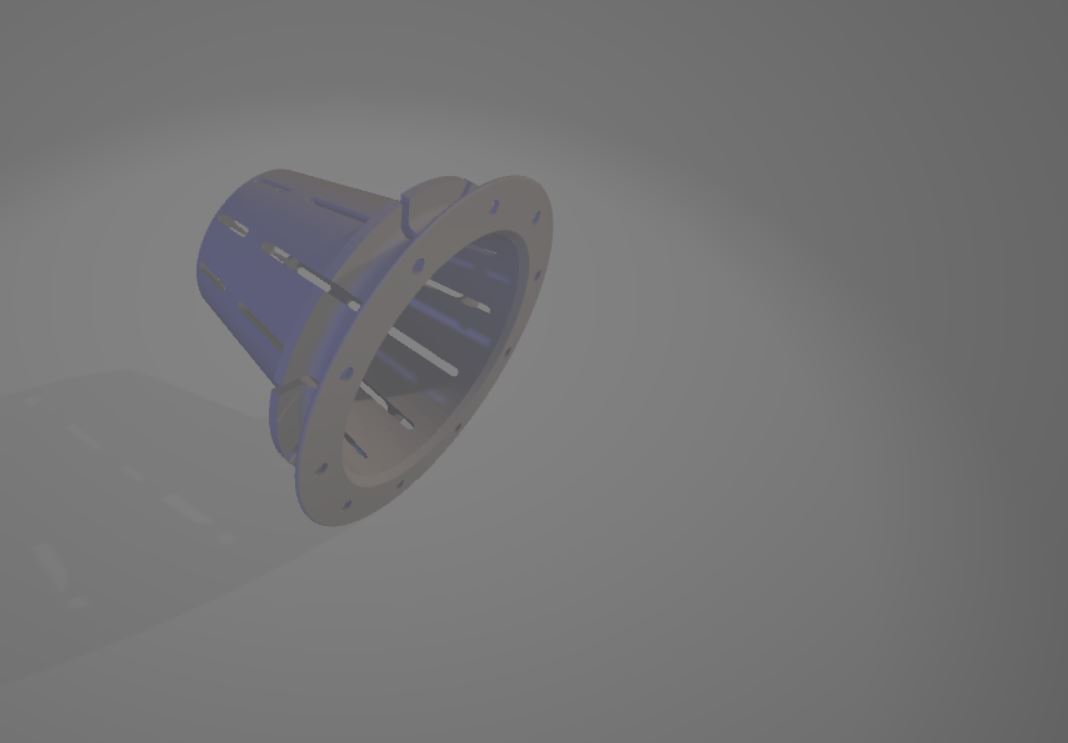basket: (161, 145, 615, 550)
